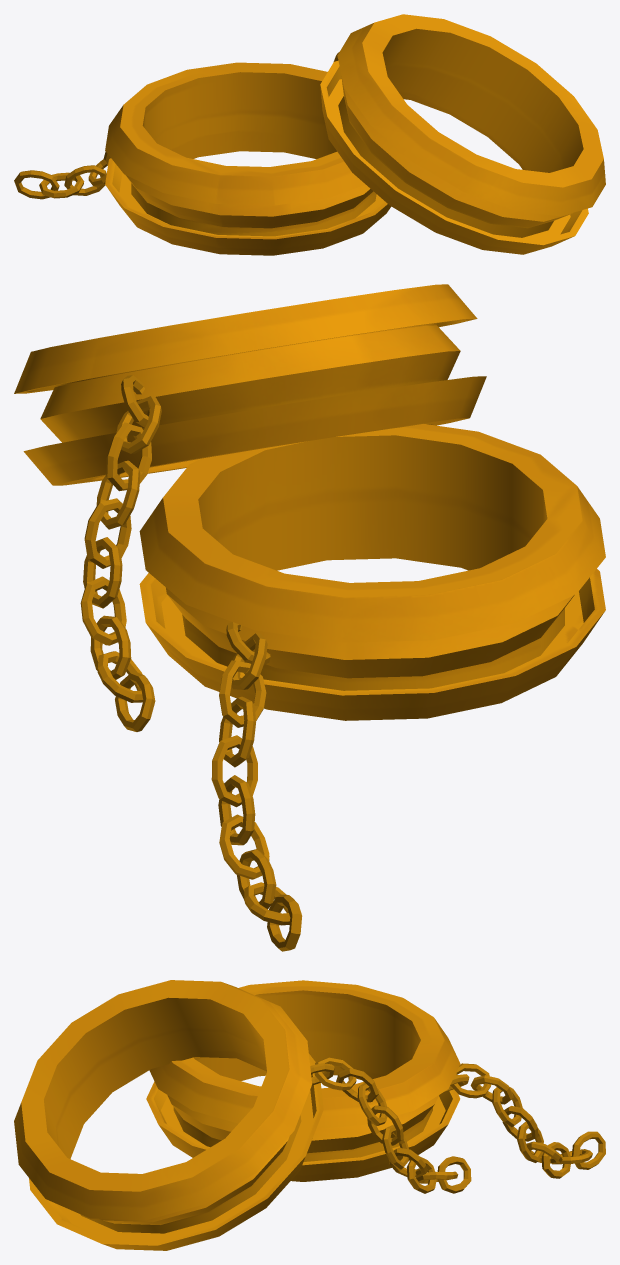
File: ZłoteOkowy.fbx
The picture shows the model from 3 angles, top to bottom: view 1: azimuth 30°, elevation 25°; view 2: azimuth 150°, elevation 25°; view 3: azimuth 270°, elevation 25°; orthographic projection. The views are drawn at different scales.
Parts seen in each view (by area): view 1: Ring1, Ring, Chain; view 2: Ring, Ring1, Chain1, Chain; view 3: Ring1, Ring, Chain1, Chain.
Part boxes in pixels (x1=…): Ring1: x1=320, y1=14, x2=605, y2=254; Ring: x1=105, y1=62, x2=391, y2=255; Chain: x1=14, y1=151, x2=110, y2=199; Ring: x1=139, y1=424, x2=605, y2=720; Ring1: x1=14, y1=284, x2=486, y2=485; Chain1: x1=80, y1=375, x2=161, y2=731; Chain: x1=211, y1=622, x2=302, y2=951; Ring1: x1=14, y1=980, x2=323, y2=1250; Ring: x1=146, y1=980, x2=460, y2=1181; Chain1: x1=310, y1=1057, x2=471, y2=1193; Chain: x1=443, y1=1063, x2=605, y2=1178.
Size of the model in its own units: 371 by 222 by 457.
1 material, 1 textured.
